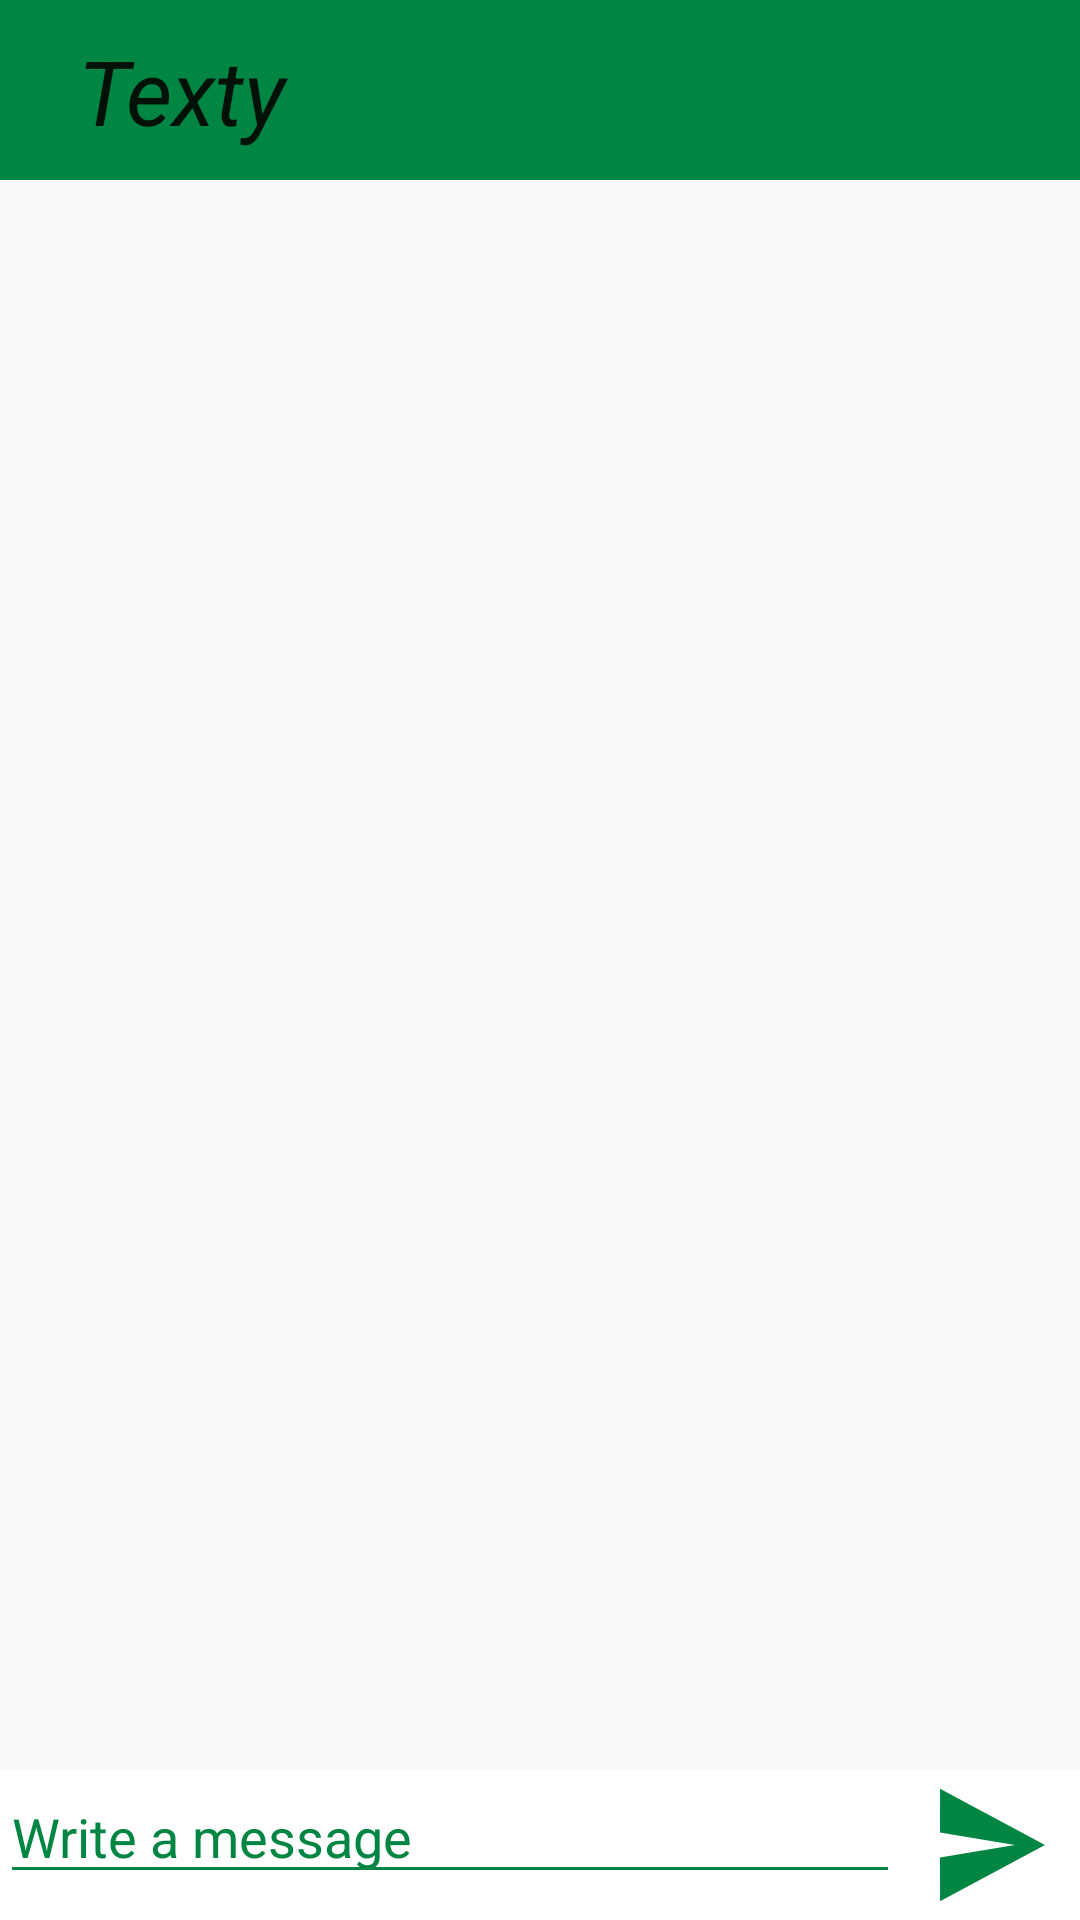

Icons on this 1080 × 1920 Android screen, each with the point to tap as [x,y]:
send: [992,1845]
